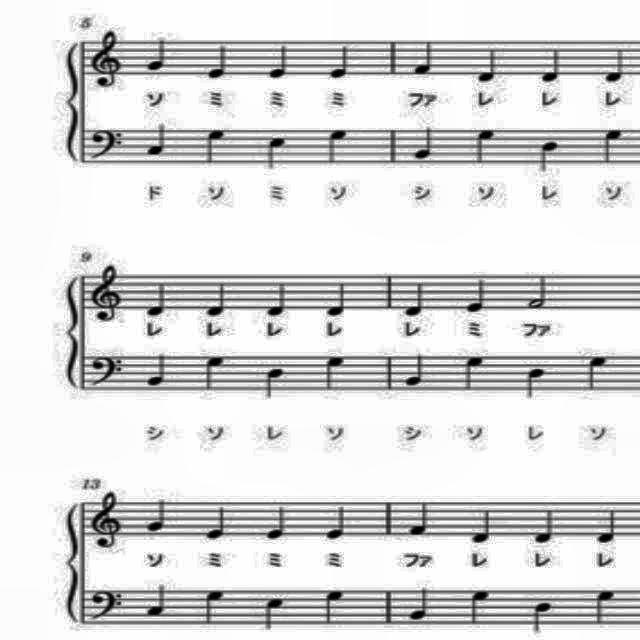Bass-clef: (86, 120, 130, 166), (86, 351, 130, 394), (88, 584, 128, 624)
Half-note: (520, 268, 556, 316)
Quarter-note: (404, 494, 438, 542), (262, 274, 294, 322), (469, 502, 501, 550), (472, 43, 508, 85), (588, 586, 624, 628), (203, 38, 237, 82), (466, 585, 498, 631), (142, 35, 176, 77), (144, 118, 176, 162), (594, 504, 626, 548), (144, 578, 176, 622), (411, 38, 444, 80), (401, 349, 434, 391), (326, 275, 356, 321), (201, 503, 233, 545), (404, 584, 436, 626), (203, 126, 233, 170), (324, 498, 354, 542), (321, 349, 349, 395), (471, 125, 501, 167), (202, 279, 232, 321), (531, 507, 561, 549), (321, 126, 352, 166), (402, 276, 430, 320), (461, 352, 489, 396), (536, 46, 568, 84), (600, 46, 632, 84), (328, 42, 356, 84), (411, 125, 439, 167), (262, 593, 290, 635), (267, 42, 295, 82), (262, 134, 290, 174), (596, 124, 624, 164), (200, 352, 228, 392), (530, 596, 558, 636), (200, 585, 224, 631), (146, 277, 172, 319), (319, 586, 346, 626), (464, 277, 492, 315), (264, 500, 288, 544), (524, 362, 550, 402), (583, 350, 609, 390), (144, 498, 170, 538), (146, 351, 170, 394), (264, 365, 288, 403), (538, 138, 562, 174)
Treble-clef: (89, 262, 128, 326), (89, 488, 127, 552), (88, 29, 126, 91)
